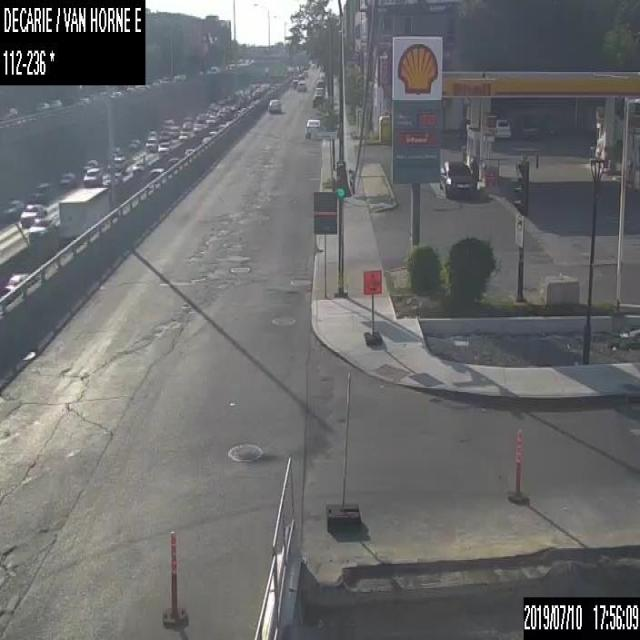construction: (254, 456, 639, 638), (326, 373, 360, 528), (158, 527, 188, 624), (361, 267, 381, 347), (508, 424, 528, 501)
vehicle: (58, 187, 109, 240), (436, 159, 475, 199), (28, 218, 56, 240), (20, 203, 44, 227), (1, 199, 24, 219), (30, 180, 53, 200), (5, 272, 28, 292), (82, 167, 102, 188), (494, 118, 512, 140), (304, 116, 320, 139), (158, 134, 172, 154), (107, 155, 125, 170), (57, 173, 76, 187), (0, 105, 16, 121), (81, 158, 97, 172), (148, 167, 164, 180), (268, 97, 281, 112), (166, 156, 179, 168), (145, 138, 157, 151), (128, 138, 140, 151), (34, 101, 49, 111), (181, 116, 192, 129), (312, 93, 322, 107), (168, 125, 179, 137), (162, 117, 172, 129), (146, 128, 157, 138), (183, 147, 193, 158), (49, 98, 61, 107), (314, 86, 324, 96), (314, 79, 324, 89), (296, 80, 306, 90), (193, 122, 202, 132), (179, 130, 188, 140), (196, 112, 205, 121), (290, 78, 298, 88)
